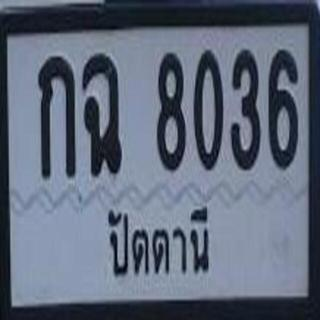A01: (30, 51, 80, 180)
A09: (81, 49, 127, 181)
N00: (192, 48, 229, 171)
N03: (229, 48, 268, 173)
N06: (263, 45, 305, 173)
N08: (153, 47, 192, 179)
P39: (100, 199, 214, 283)
